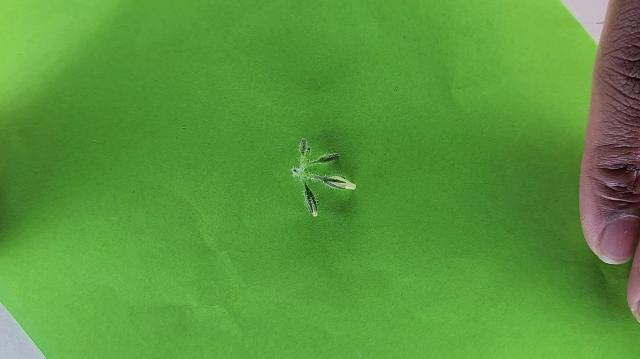Flower Bud: (302, 179, 318, 217), (318, 175, 356, 191), (309, 152, 341, 164)
